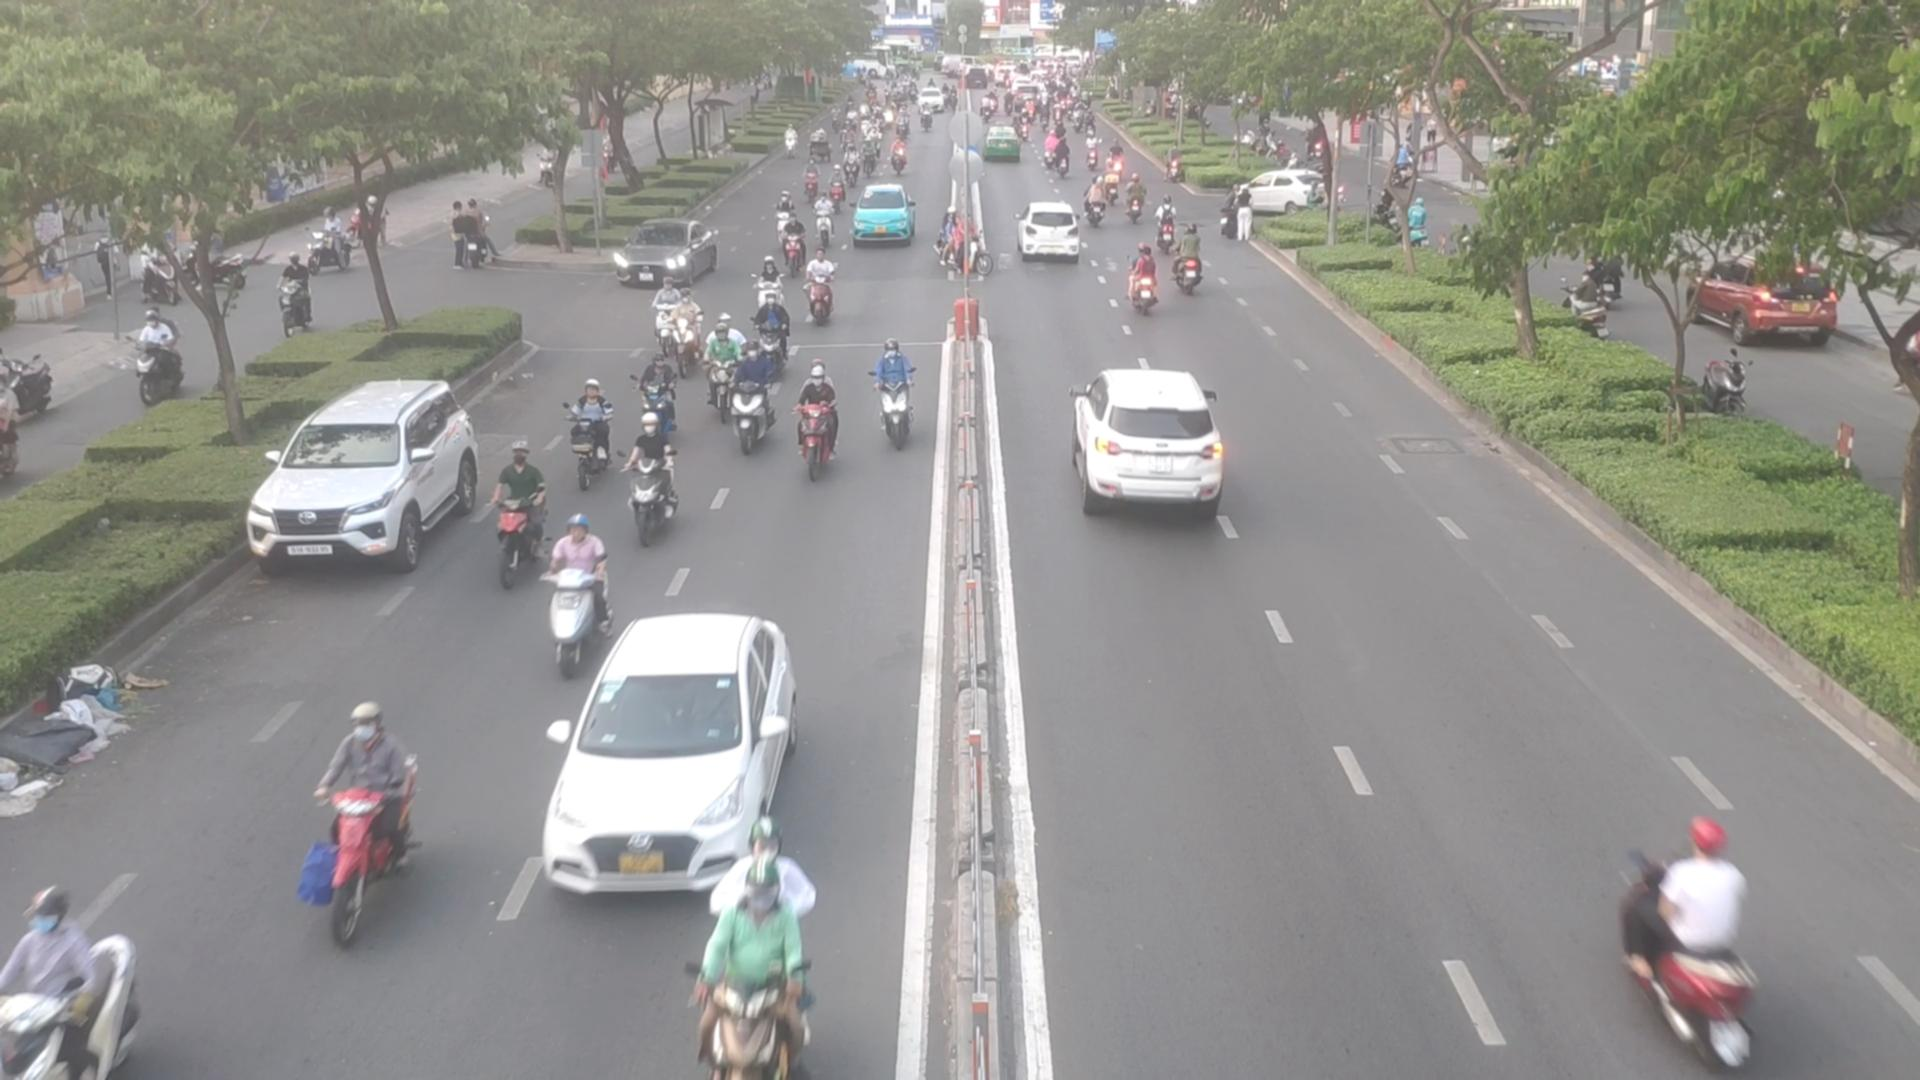car: (535, 618, 800, 899), (248, 382, 488, 575), (1073, 367, 1230, 510), (615, 222, 724, 291), (1015, 200, 1085, 261), (1240, 171, 1327, 218), (855, 185, 919, 244)
motorbike: (1592, 811, 1753, 1064), (687, 833, 858, 1065), (0, 866, 146, 1080), (309, 705, 417, 957), (541, 518, 607, 675), (624, 407, 692, 529), (795, 367, 849, 489), (556, 372, 613, 483), (489, 454, 538, 570), (874, 353, 922, 456), (705, 311, 749, 402), (754, 295, 794, 386), (636, 339, 680, 415), (669, 295, 711, 369), (804, 252, 843, 330), (945, 214, 986, 284), (1174, 231, 1205, 302), (644, 280, 678, 342), (1156, 198, 1184, 261), (783, 223, 816, 276), (1129, 232, 1150, 313), (814, 210, 847, 257), (773, 193, 800, 248), (758, 260, 785, 314)
